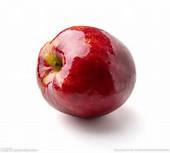apple: (41, 33, 128, 132)
